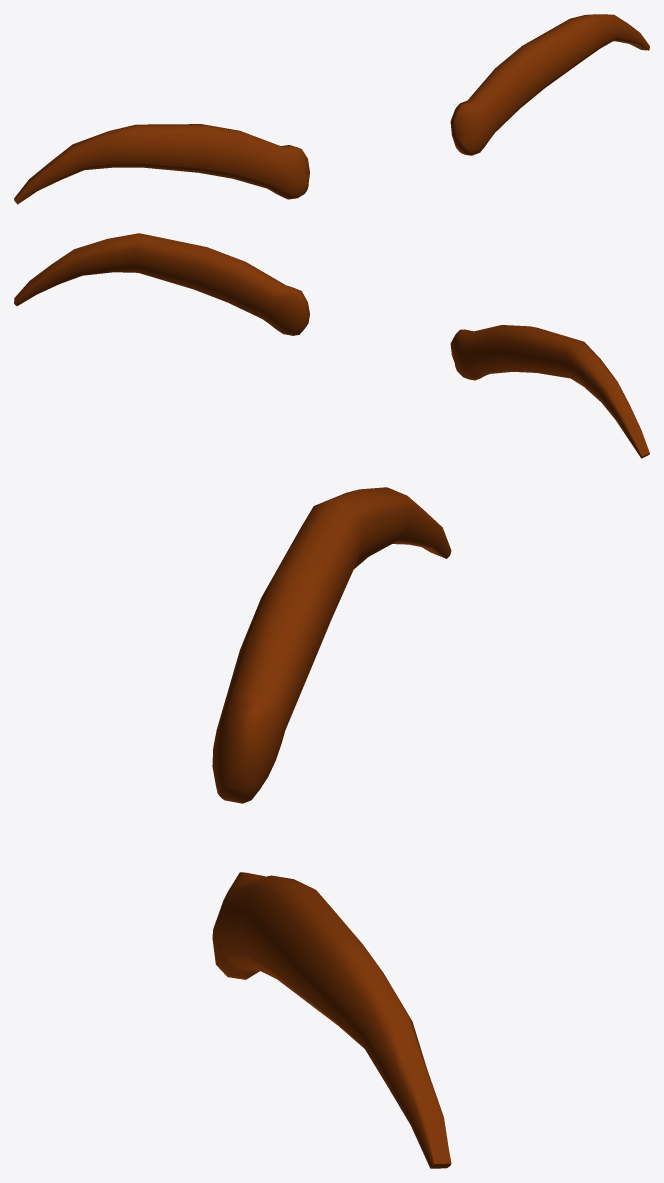
The model's file is Eyebrows_05_02.fbx.
3 views of the same model, one above another, from view 1: azimuth 30°, elevation 25°; view 2: azimuth 150°, elevation 25°; view 3: azimuth 270°, elevation 25° (orthographic). The views are drawn at different scales.
Visible parts, largest first — view 1: Eyebrows_05_02; view 2: Eyebrows_05_02; view 3: Eyebrows_05_02.
Part boxes in pixels (x1,y1,x2,y2): Eyebrows_05_02: (14,14,649,204); Eyebrows_05_02: (14,233,649,458); Eyebrows_05_02: (212,487,451,1168).
Bounding box in the file's own units: 19.76 × 2.56 × 3.22.
